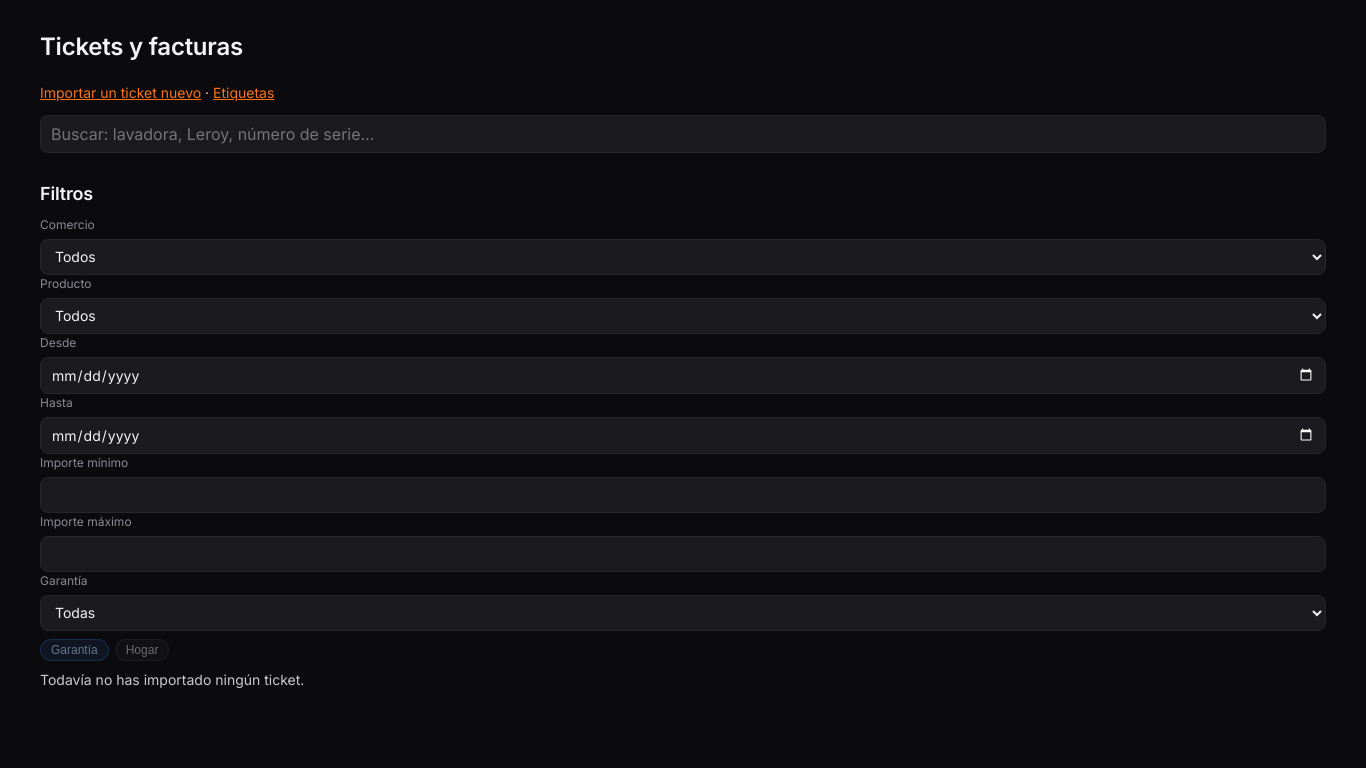
ReceiptsPage › buscador y filtros de la spec 051 › con una búsqueda sin resultados, lo dice
This screenshot has width=1366, height=768.
Type "secadora" into the search field named "Buscar tickets". click: (683, 134)
box: [40,115,1326,153]
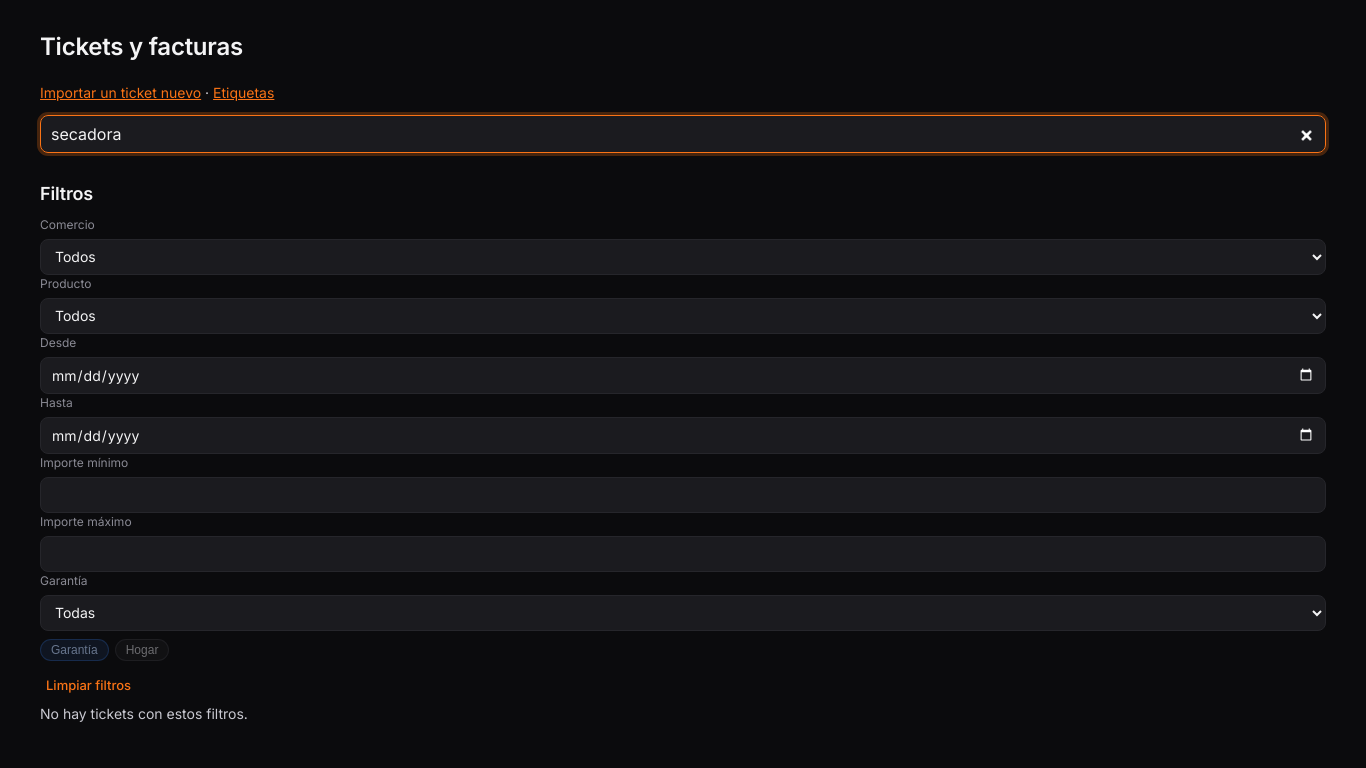
Expected: the text "No hay tickets con estos filtros." is shown, [40,705,248,722]
